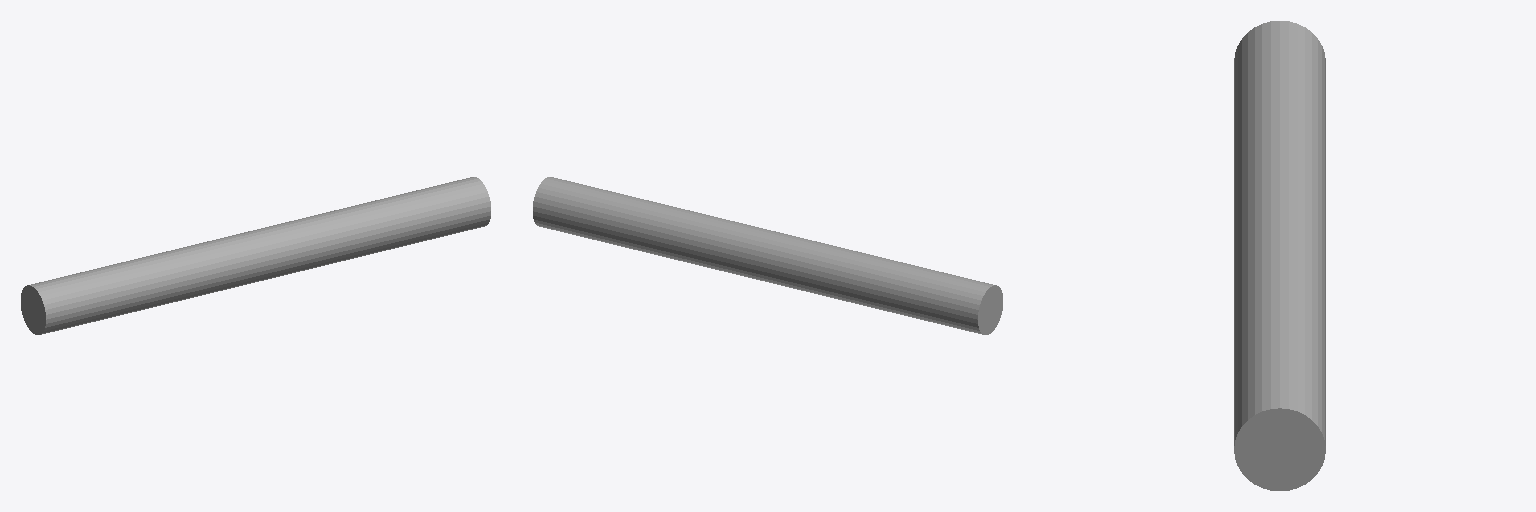
URDF robot description (physics):
<?xml version="1.0"?>
<robot name="physics">
  <link name="gripper_pole">
    <visual>
      <geometry>
        <cylinder length="0.2" radius=".01"/>
      </geometry>
      <origin rpy="0 1.57075 0 " xyz="0.1 0 0"/>
      <material name="Gray">
        <color rgba=".7 .7 .7 1"/>
      </material>
    </visual>
    <collision>
      <geometry>
        <cylinder length="0.2" radius=".01"/>
      </geometry>
      <origin rpy="0 1.57075 0 " xyz="0.1 0 0"/>
    </collision>
    <inertial>
      <mass value="0.5"/>
      <inertia ixx="1.0" ixy="0.0" ixz="0.0" iyy="1.0" iyz="0.0" izz="1.0"/>
    </inertial>
  </link>

  <joint name="left_gripper_joint" type="revolute">
    <axis xyz="0 0 1"/>
    <limit effort="1000.0" lower="0.0" upper="0.548" velocity="0.5"/>
    <origin rpy="0 0 0" xyz="0.2 0.01 0"/>
    <parent link="gripper_pole"/>
    <child link="left_gripper"/>
  </joint>

  <link name="left_gripper">
    <contact>
      <lateral_friction value="1.0"/>
      <spinning_friction value="1.5"/>
    </contact>
    <visual>
      <origin rpy="0.0 0 0" xyz="0 0 0"/>
      <geometry>
        <mesh filename="l_finger_collision.stl"/>
      </geometry>
    </visual>
    <collision>
      <origin rpy="0.0 0 0" xyz="0 0 0"/>
      <geometry>
        <mesh filename="l_finger_collision.stl"/>
      </geometry>
    </collision>
    <inertial>
      <mass value="0.1"/>
      <inertia ixx="1.0" ixy="0.0" ixz="0.0" iyy="1.0" iyz="0.0" izz="1.0"/>
    </inertial>
  </link>

  <joint name="left_tip_joint" type="fixed">
    <parent link="left_gripper"/>
    <child link="left_tip"/>
  </joint>

  <link name="left_tip">
    <contact>
      <lateral_friction value="1.0"/>
      <spinning_friction value="1.5"/>
    </contact>
    <visual>
      <origin rpy="0.0 0 0" xyz="0.09137 0.00495 0"/>
      <geometry>
        <mesh filename="l_finger_tip.stl"/>
      </geometry>
    </visual>
    <collision>
      <geometry>
        <box size=".03 .03 .02"/>
      </geometry>
      <origin rpy="0.0 0 0" xyz="0.105 0.00495 0"/>
    </collision>
    <inertial>
      <mass value="0.1"/>
      <inertia ixx="1.0" ixy="0.0" ixz="0.0" iyy="1.0" iyz="0.0" izz="1.0"/>
    </inertial>
  </link>

  <joint name="right_gripper_joint" type="revolute">
    <axis xyz="0 0 -1"/>
    <limit effort="1000.0" lower="0.0" upper="0.548" velocity="0.5"/>
    <origin rpy="0 0 0" xyz="0.2 -0.01 0"/>
    <parent link="gripper_pole"/>
    <child link="right_gripper"/>
  </joint>

  <link name="right_gripper">
    <contact>
      <lateral_friction value="1.0"/>
      <spinning_friction value="1.5"/>
    </contact>
    <visual>
      <origin rpy="-3.1415 0 0" xyz="0 0 0"/>
      <geometry>
        <mesh filename="l_finger_collision.stl"/>
      </geometry>
    </visual>
         <collision>
      <origin rpy="-3.1415 0 0" xyz="0 0 0"/>
      <geometry>
        <mesh filename="l_finger_collision.stl"/>
      </geometry>
    </collision>
    <inertial>
      <mass value="0.1"/>
      <inertia ixx="1.0" ixy="0.0" ixz="0.0" iyy="1.0" iyz="0.0" izz="1.0"/>
    </inertial>
  </link>

  <joint name="right_tip_joint" type="fixed">
    <parent link="right_gripper"/>
    <child link="right_tip"/>
  </joint>

  <link name="right_tip">
    <contact>
      <lateral_friction value="1.0"/>
      <spinning_friction value="1.5"/>
    </contact>
    <visual>
      <origin rpy="-3.1415 0 0" xyz="0.09137 0.00495 0"/>
      <geometry>
        <mesh filename="l_finger_tip.stl"/>
      </geometry>
    </visual>
    <collision>
      <geometry>
      	<box size=".03 .03 .02"/>
      </geometry>
      <origin rpy="-3.1415 0 0" xyz="0.105 0.00495 0"/>
    </collision>
    <inertial>
      <mass value="0.1"/>
      <inertia ixx="1.0" ixy="0.0" ixz="0.0" iyy="1.0" iyz="0.0" izz="1.0"/>
    </inertial>
  </link>
</robot>

--- Facts derived from the render (not from the file) ---
Views: 3 orthographic renders of the robot side by side, from view 1: azimuth 30°, elevation 25°; view 2: azimuth 150°, elevation 25°; view 3: azimuth 270°, elevation 25°.
Robot: physics — 5 links, 4 joints (2 revolute, 2 fixed); root link gripper_pole; default pose: all joints at 0.
Links seen in each view (by area): view 1: gripper_pole; view 2: gripper_pole; view 3: gripper_pole.
Boxes of the visible links, bbox=[...] form: gripper_pole: bbox=[21, 177, 490, 334]; gripper_pole: bbox=[533, 177, 1002, 334]; gripper_pole: bbox=[1234, 21, 1325, 490].
Size in the robot's own frame: 0.2 by 0.02 by 0.02 metres.
Meshes: 2 distinct files referenced, 0 mesh visuals loaded (none loaded); not drawn: 4 (reference not matched to a file when rendering).